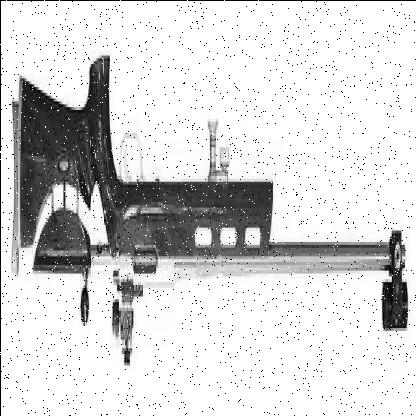rifle: (3, 37, 412, 407)
